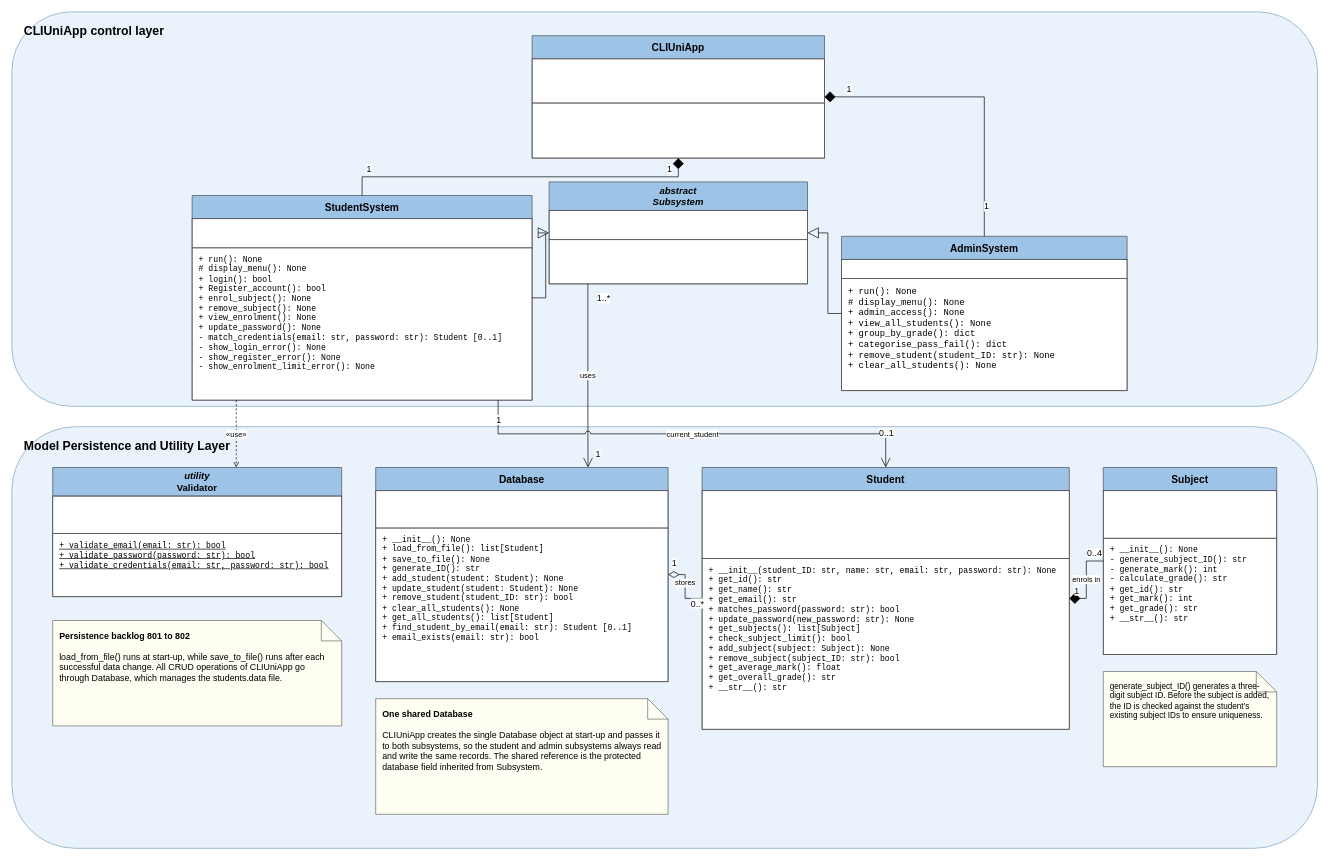
Image size: 1329x860. Some labels were removed from this diagram. Each missing label, with the centre of its shape:
# database: Database: pixel 678 225
+ __init__(): None + run(): None - display_main_menu(): None: pixel 678 130
+ run(): None # display_menu(): None: pixel 678 261
- current_student: Student [0..1]: pixel 361 233
- database: Database - student_system: StudentSystem - admin_system: AdminSystem: pixel 678 80
- EMAIL_PATTERN: str - PASSWORD_PATTERN: str: pixel 197 514
- FILE_NAME: str = "students.data" - students: list[Student]: pixel 521 509
- id: str - mark: int - grade: str: pixel 1190 514
- id: str - name: str - email: str - password: str - subjects: list[Subject]: pixel 885 524
